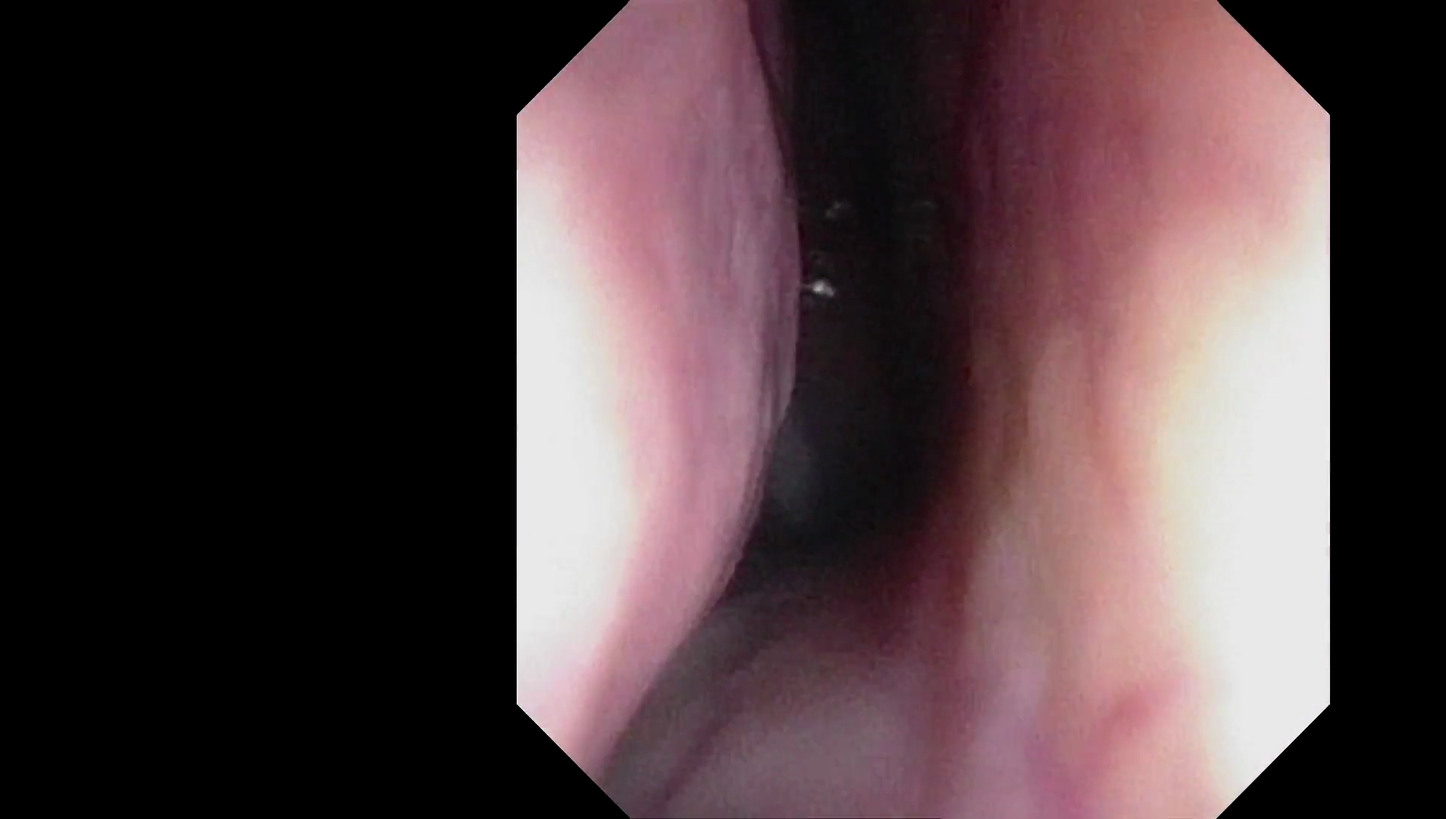close_wall: (518, 147, 740, 699), (1095, 151, 1312, 699)
next: (718, 2, 1025, 604)
